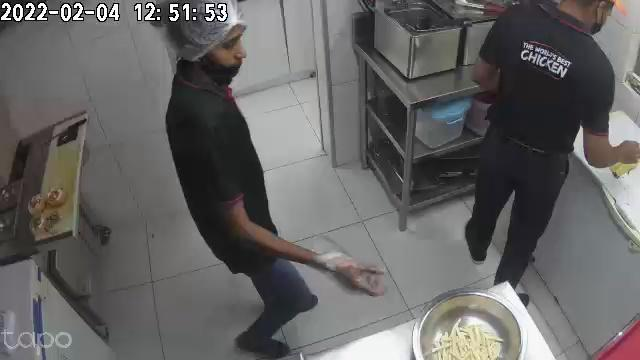gloves: (293, 245, 382, 296)
